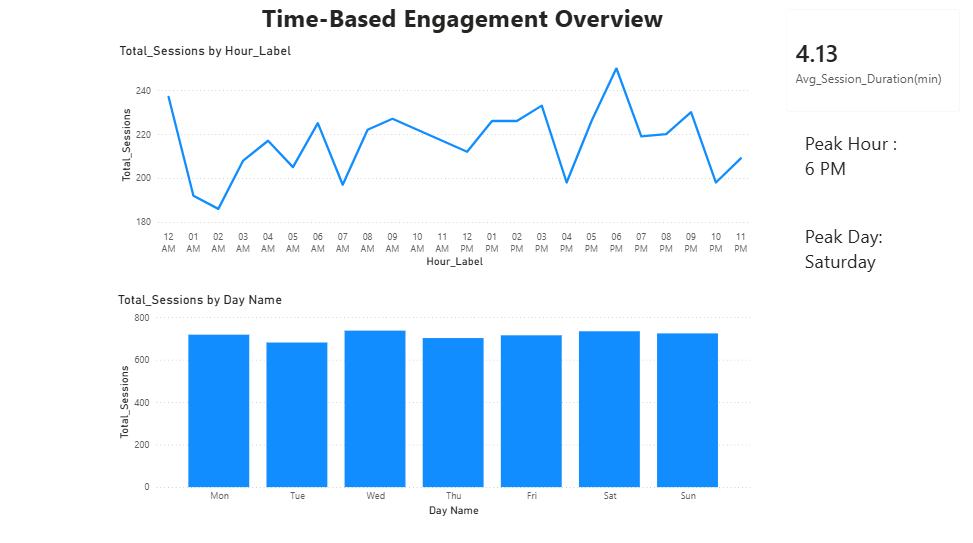

What the dashboard file says about the page in this screenshot:
{"tool":"powerbi","page":{"name":"Time-Based Engagement Overview","canvas":[1280,720],"ordinal":3},"visuals":[{"type":"textbox","box":[345.2,0,575.8,85.5],"z":0},{"type":"lineChart","fields":{"Category":["customer_journey.Hour_Label"],"Y":["key_measures.Total_Sessions"]},"box":[158.1,61.3,837.1,298.4],"z":1000},{"type":"clusteredColumnChart","fields":{"Category":["dim_calendar.Day Name"],"Y":["key_measures.Total_Sessions"]},"box":[156.5,385.5,837.1,298.4],"z":2000},{"type":"cardVisual","fields":{"Data":["key_measures.Avg_Session_Duration"]},"box":[1017.6,0,262.7,168.6],"z":3000},{"type":"textbox","box":[1055.7,170,217,93.9],"z":3001},{"type":"textbox","box":[1055.7,293.1,223.5,108.5],"z":3002}]}

Visuals, with their boxes in screenshot pixels (x1, y1, x2, y2), scaled from the page's 1280x720 canvas onto the 973x543 screenshot:
textbox: 262/0/700/64
lineChart - customer_journey.Hour_Label x key_measures.Total_Sessions: 120/46/757/271
clusteredColumnChart - dim_calendar.Day Name x key_measures.Total_Sessions: 119/291/755/516
cardVisual - key_measures.Avg_Session_Duration: 774/0/972/127
textbox: 802/128/967/199
textbox: 802/221/972/303
